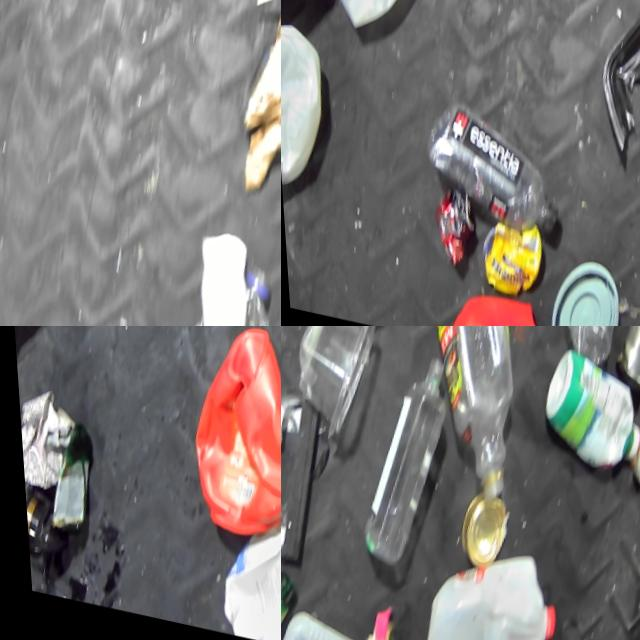can: (157, 326, 281, 538), (417, 177, 484, 277), (446, 493, 506, 565), (605, 326, 640, 393), (622, 419, 640, 500)
milk_jug: (399, 525, 568, 640), (281, 18, 337, 207)
non_white_jug: (423, 274, 586, 326)
plastic_bottle: (389, 326, 552, 501), (404, 84, 578, 245), (350, 346, 453, 554), (135, 255, 281, 326)
